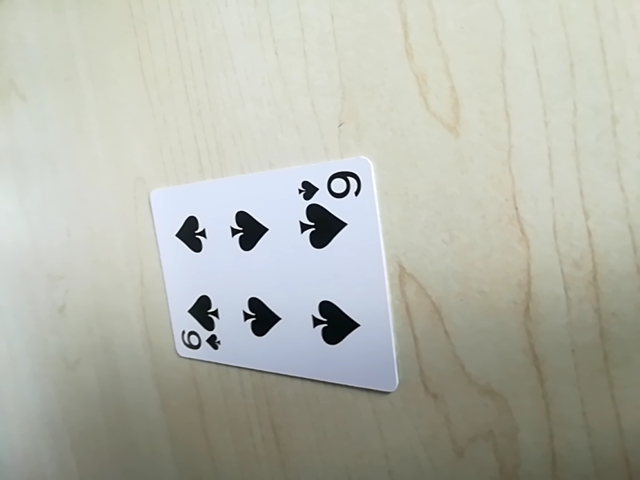ht 6: (297, 166, 365, 201), (172, 316, 223, 356)
